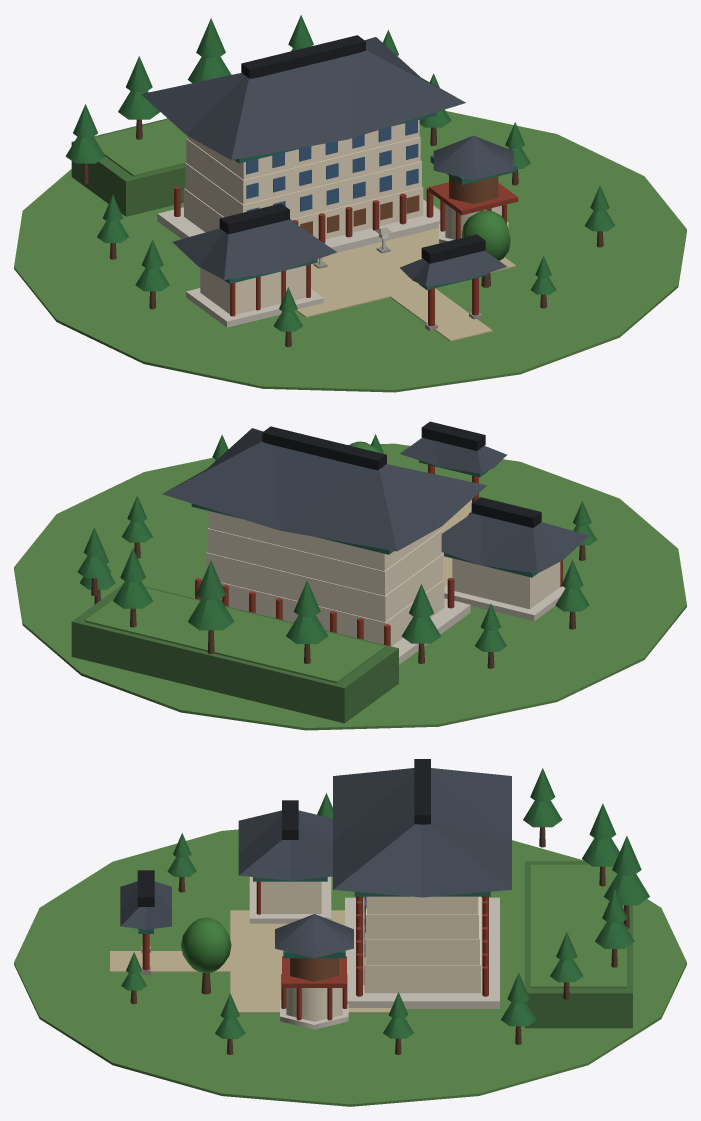
Rendered from hwagyesa.glb.
3 views of the same model, one above another, from view 1: azimuth 30°, elevation 25°; view 2: azimuth 150°, elevation 25°; view 3: azimuth 270°, elevation 25° (orthographic).
Size of the model in its own units: 56 by 15.82 by 56.
